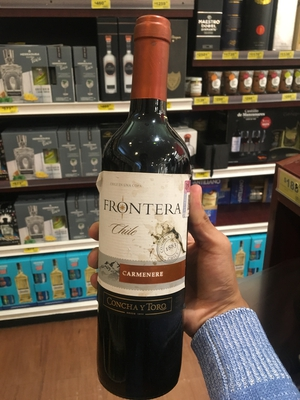frontera carmenere: (98, 20, 202, 395)
